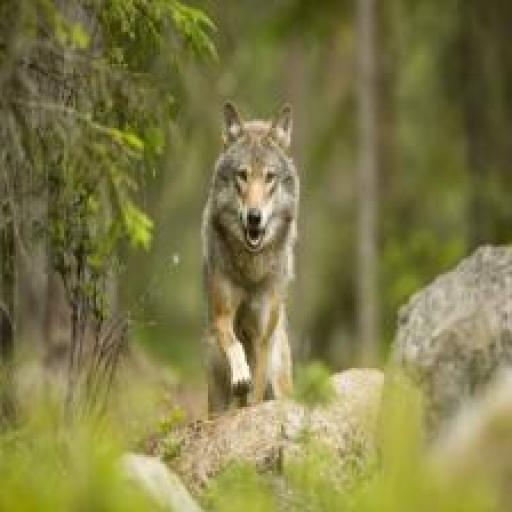wolf: (196, 94, 308, 444)
